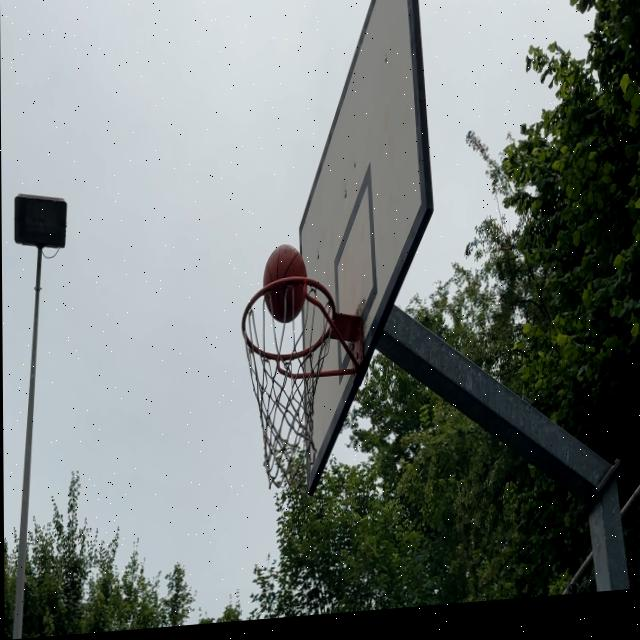rebound_hit: (263, 243, 307, 326)
